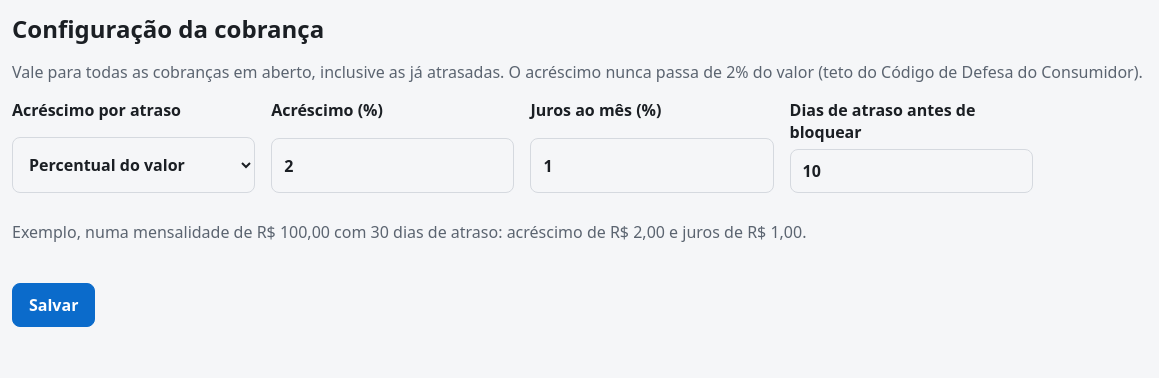
Scenario: configuração da cobrança › valor fora da regra: a API explica
Replace the text in the number field labelled "Juros ao mês (%)" with "50" at (652,166), box top-left (530, 138), bottom-right (774, 193)
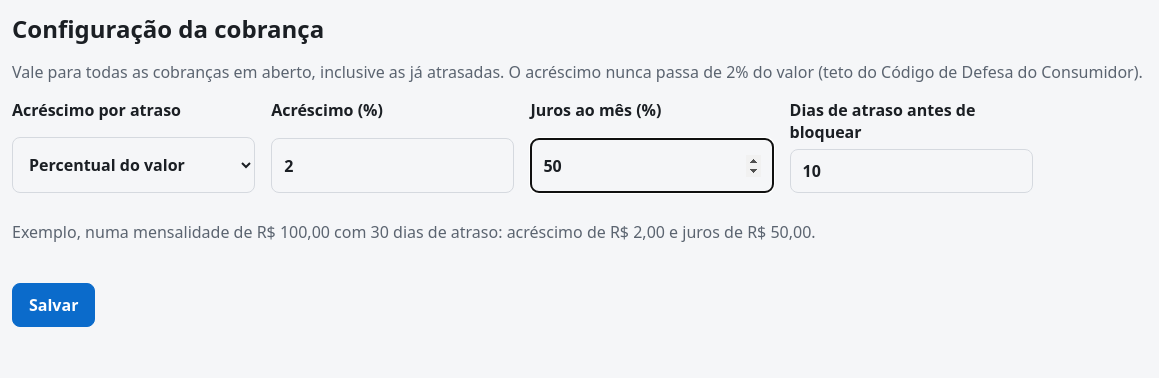
Click the button "Salvar" at (54,305), box top-left (12, 283), bottom-right (95, 327)
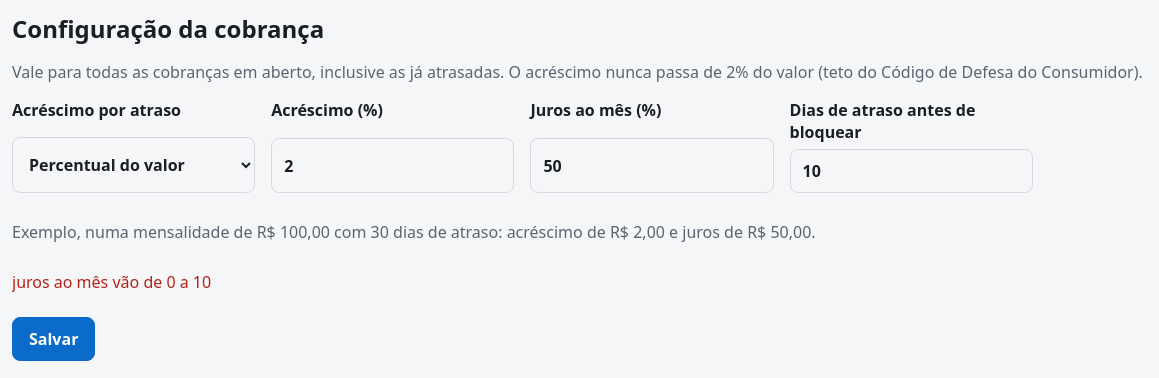
Check: the message reads "juros ao mês vão de 0 a 10", box top-left (12, 271), bottom-right (211, 293)
